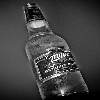beer: (18, 2, 99, 100)
